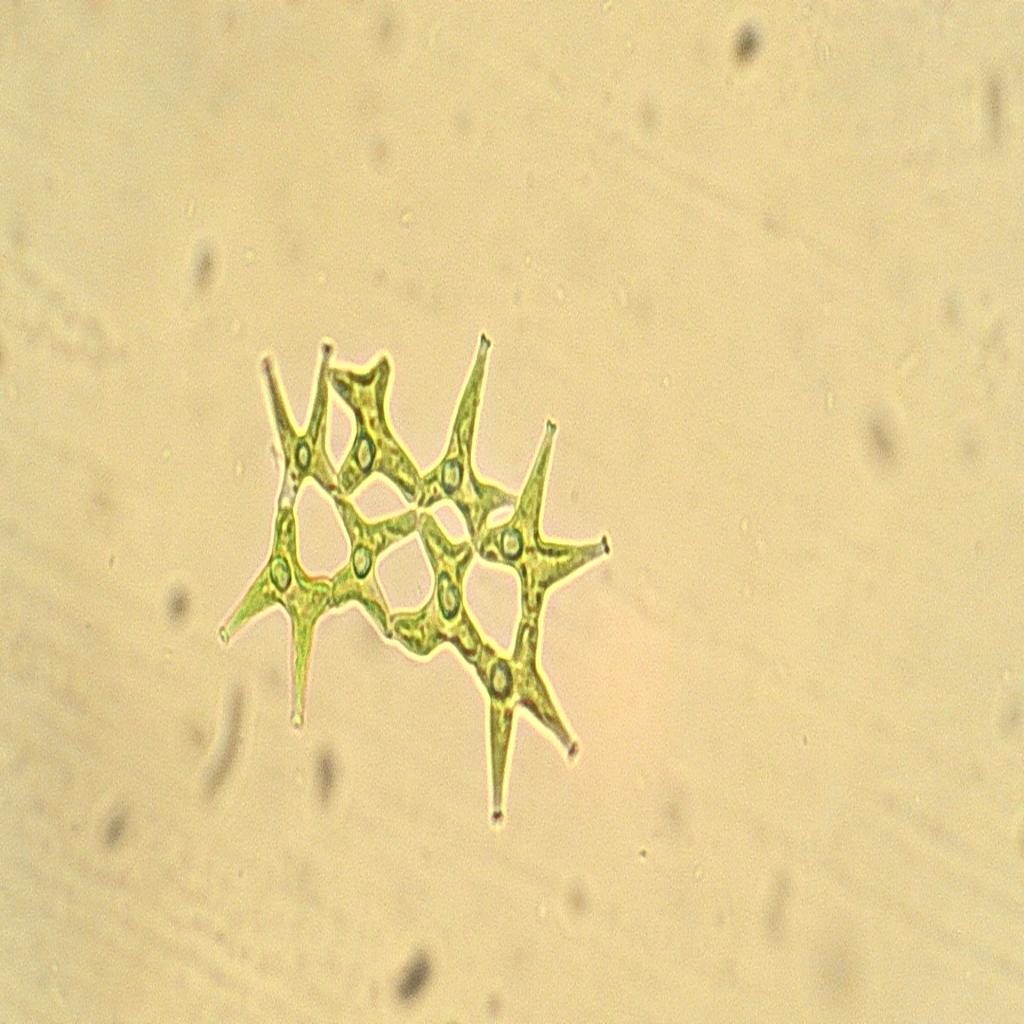Pediastrum_CFI: (202, 298, 622, 834)
